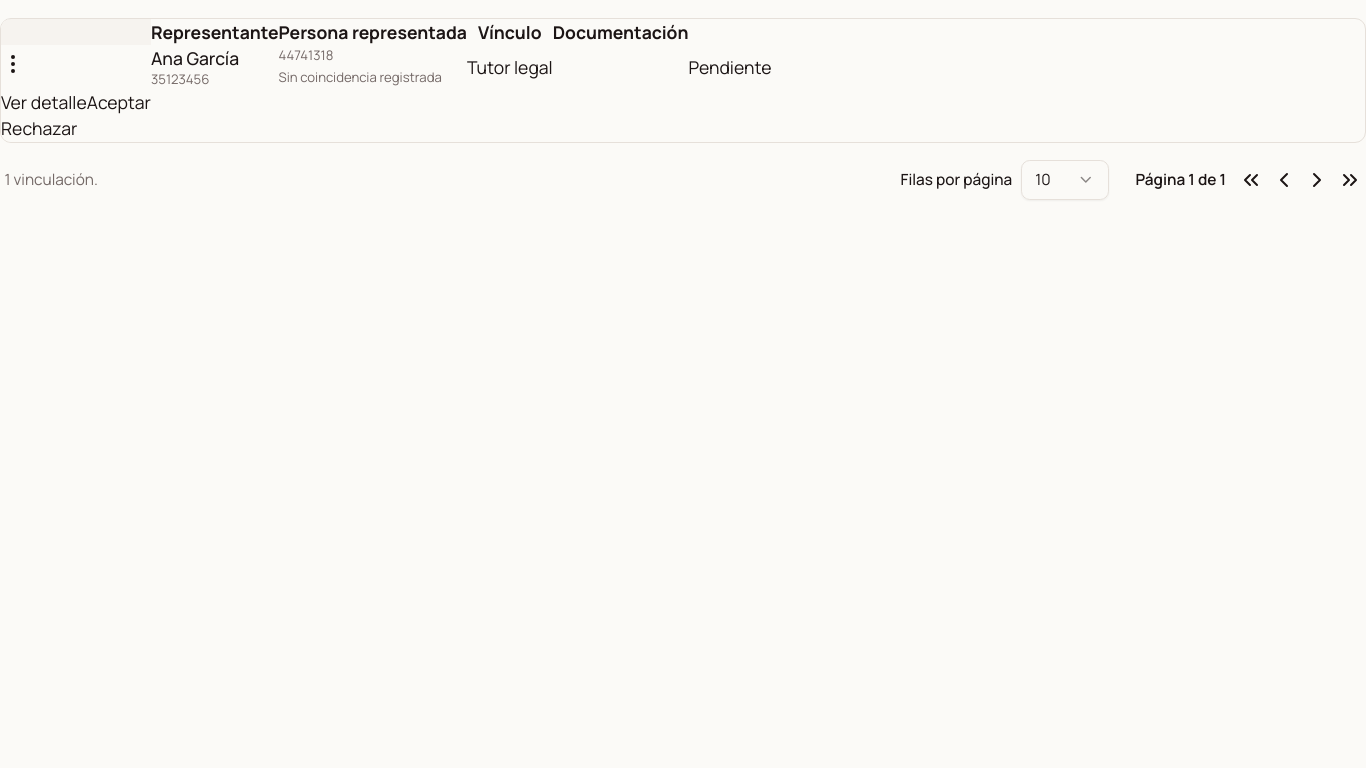
Test: GuardianLinkRequests › blocks approval without a match in the dropdown menu but permits rejection
Expected: the text "Sin coincidencia registrada" is shown, [278,69,467,87]
Click the button named "Abrir acciones de 44741318".
click(13, 64)  # box [1,52,25,76]
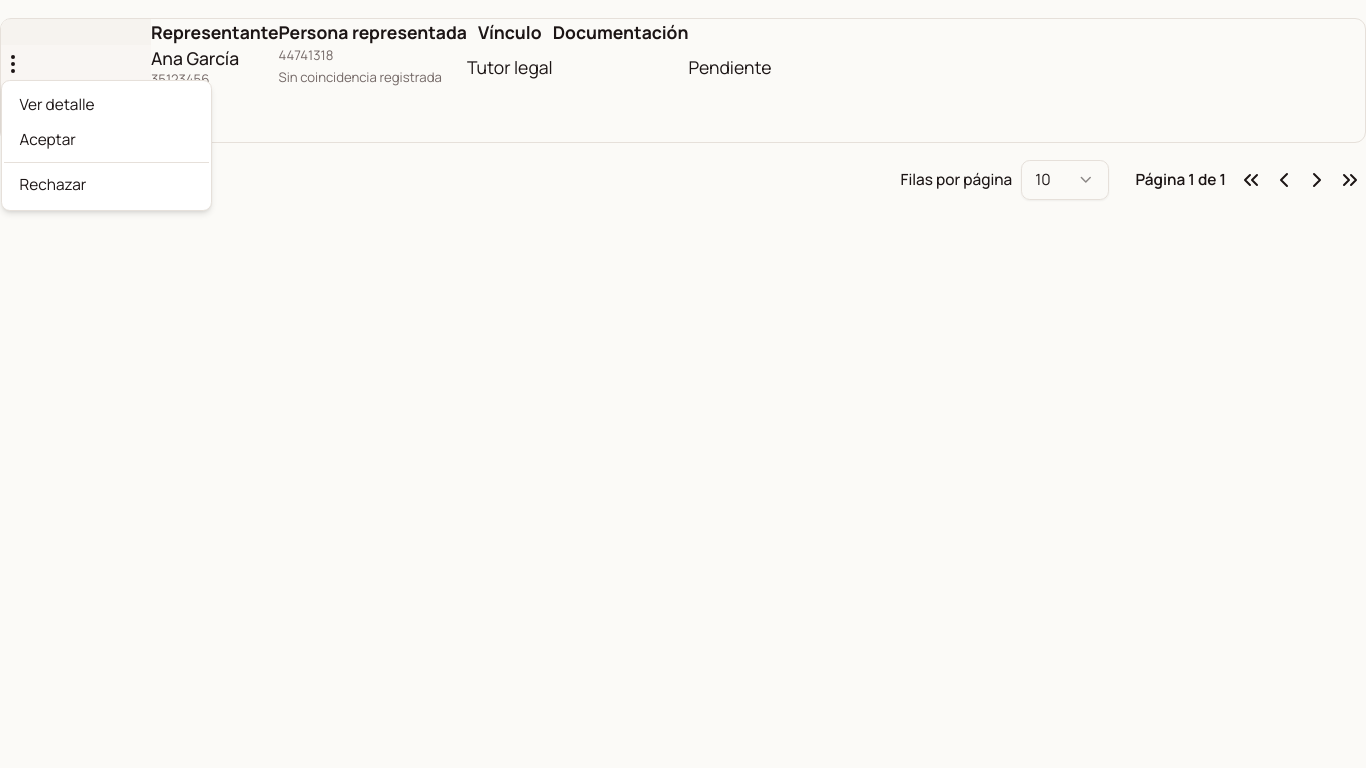
Click the menu item "Rechazar".
click(53, 185)  # box [20,174,86,195]
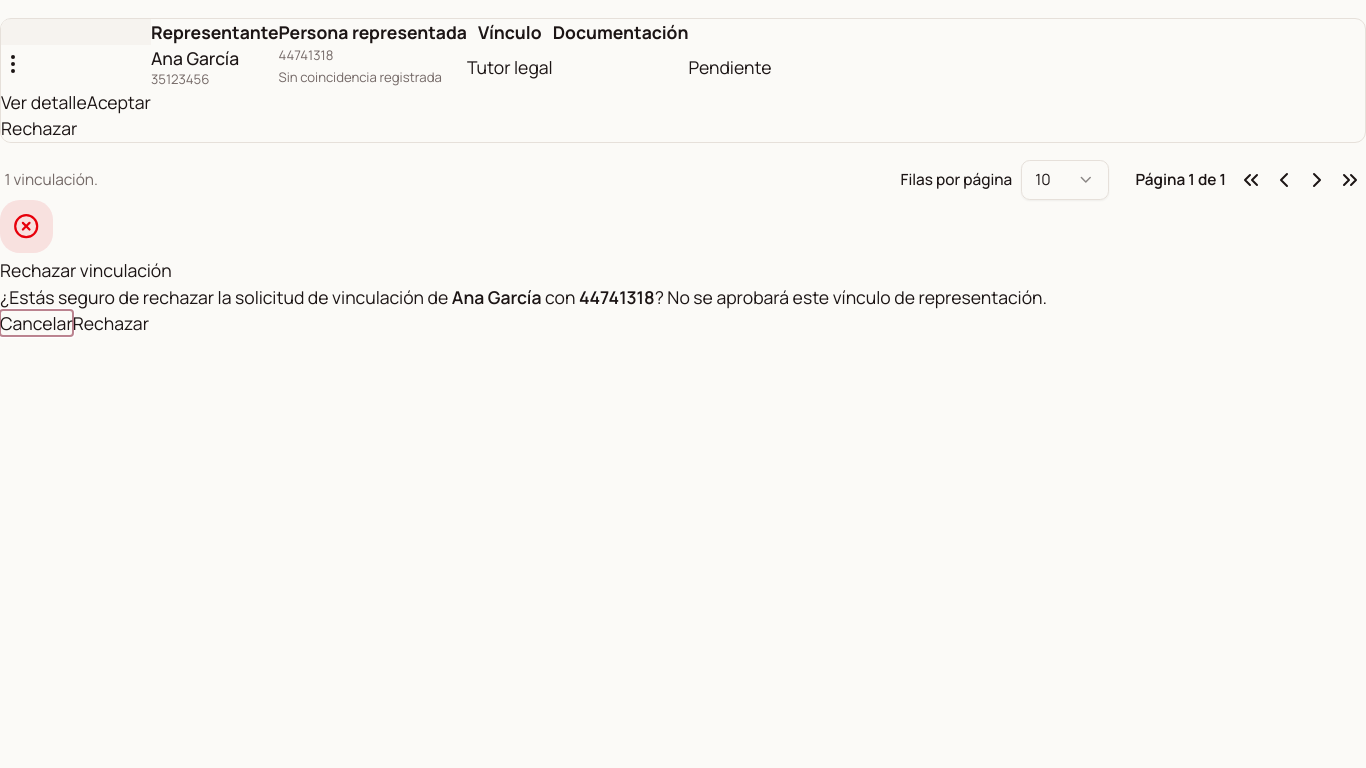
Result: the dialog shows "Rechazar vinculación" at [0,258,172,282]
